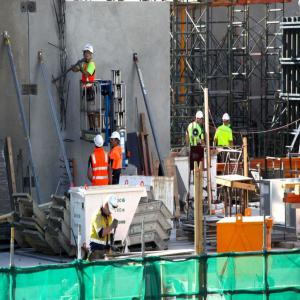white: (103, 195, 119, 217), (83, 45, 94, 60), (111, 133, 121, 148), (94, 135, 104, 149), (223, 114, 231, 127), (197, 111, 204, 124)
